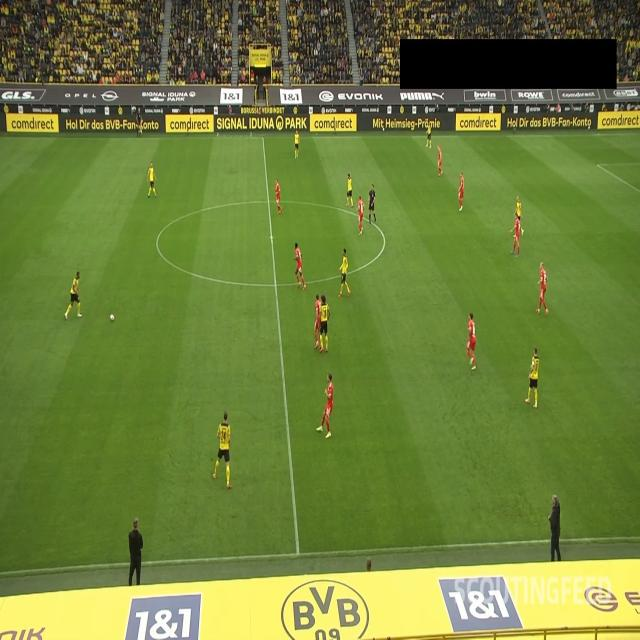ball: (109, 312, 115, 322)
